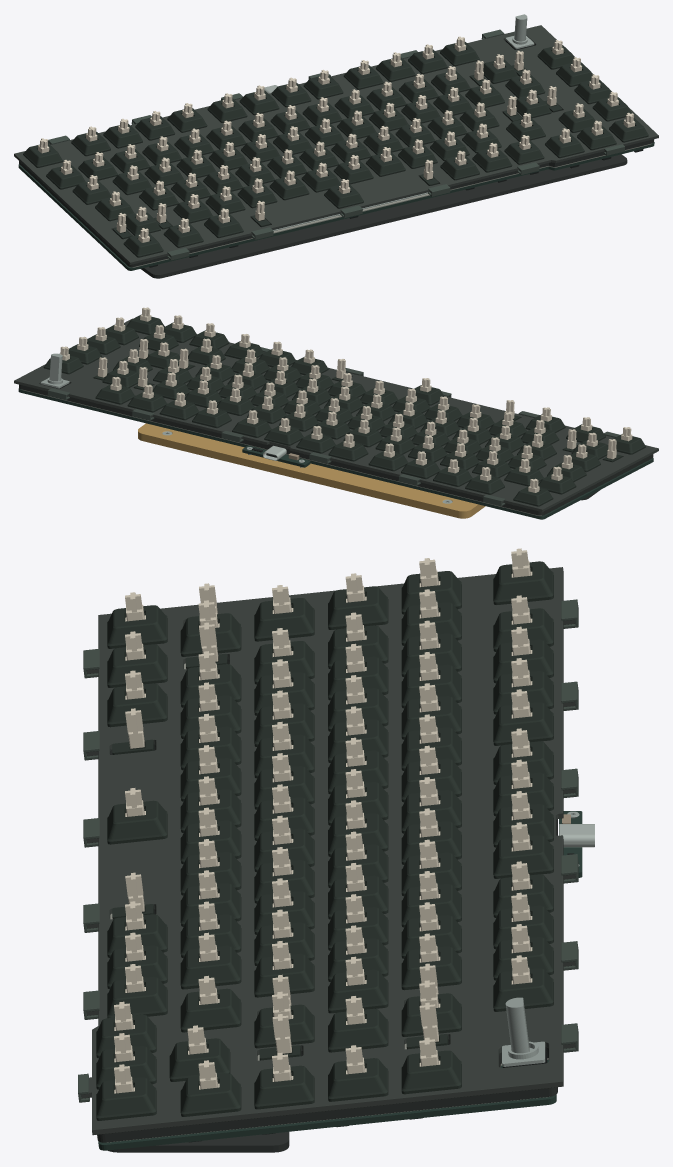
Rendered from kf01_internal_b21.meshopt.glb.
3 renders of one model, top to bottom at view 1: azimuth 30°, elevation 25°; view 2: azimuth 150°, elevation 25°; view 3: azimuth 270°, elevation 25°, orthographic. The views are drawn at different scales.
Parts seen in each view (by area): view 1: KF01_Plate_Main, KF01_Foam_CaseBottom, KF01_PCB_Main, KF01_Foam_PoronPlate, KF01_Foam_IXPE, KF01_MX_F9_Lid, KF01_MX_M_Lid, KF01_MX_Right_Lid, KF01_MX_RAlt_Lid, KF01_MX_Super_Lid, KF01_MX_Down_Lid, KF01_MX_F12_Lid (+74 smaller); view 2: KF01_Plate_Main, KF01_Weight_Main, KF01_Foam_PoronPlate, KF01_PCB_Main, KF01_Foam_IXPE, KF01_MX_F5_Lid, KF01_MX_Esc_Lid, KF01_MX_F4_Lid, KF01_MX_F9_Lid, KF01_MX_F3_Lid, KF01_MX_F10_Lid, KF01_MX_F6_Lid (+75 smaller); view 3: KF01_Plate_Main, KF01_Foam_PoronPlate, KF01_PCB_Main, KF01_Foam_CaseBottom, KF01_MX_End_Lid, KF01_MX_Delete_Lid, KF01_MX_Space_Lid, KF01_MX_PgDn_Lid, KF01_MX_Right_Lid, KF01_MX_PgUp_Lid, KF01_MX_RShift_Lid, KF01_MX_Backslash_Lid (+74 smaller).
Part boxes in pixels (<box>): KF01_Plate_Main: <box>14,25,658,264</box>; KF01_Foam_CaseBottom: <box>141,154,627,278</box>; KF01_PCB_Main: <box>18,142,654,270</box>; KF01_Foam_PoronPlate: <box>19,40,654,267</box>; KF01_Foam_IXPE: <box>132,143,651,267</box>; KF01_MX_F9_Lid: <box>343,65,383,89</box>; KF01_MX_M_Lid: <box>365,152,405,176</box>; KF01_MX_Right_Lid: <box>609,118,648,142</box>; KF01_MX_RAlt_Lid: <box>440,156,479,180</box>; KF01_MX_Super_Lid: <box>163,223,203,247</box>; KF01_MX_Down_Lid: <box>577,126,616,150</box>; KF01_MX_F12_Lid: <box>440,42,479,66</box>; KF01_Plate_Main: <box>14,318,658,512</box>; KF01_Weight_Main: <box>138,423,485,518</box>; KF01_Foam_PoronPlate: <box>19,384,653,515</box>; KF01_PCB_Main: <box>18,388,653,519</box>; KF01_Foam_IXPE: <box>21,389,541,515</box>; KF01_MX_F5_Lid: <box>328,441,368,461</box>; KF01_MX_Esc_Lid: <box>513,486,553,506</box>; KF01_MX_F4_Lid: <box>368,450,408,471</box>; KF01_MX_F9_Lid: <box>192,407,231,428</box>; KF01_MX_F3_Lid: <box>401,458,440,479</box>; KF01_MX_F10_Lid: <box>159,399,199,420</box>; KF01_MX_F6_Lid: <box>296,433,335,453</box>; KF01_Plate_Main: <box>81,567,575,1135</box>; KF01_Foam_PoronPlate: <box>97,659,557,1142</box>; KF01_PCB_Main: <box>98,1060,556,1150</box>; KF01_Foam_CaseBottom: <box>108,1131,289,1152</box>; KF01_MX_End_Lid: <box>180,1073,241,1116</box>; KF01_MX_Delete_Lid: <box>401,1050,461,1094</box>; KF01_MX_Space_Lid: <box>107,800,167,844</box>; KF01_MX_PgDn_Lid: <box>254,1065,314,1109</box>; KF01_MX_Right_Lid: <box>96,1077,156,1120</box>; KF01_MX_PgUp_Lid: <box>328,1058,388,1101</box>; KF01_MX_RShift_Lid: <box>180,988,241,1032</box>; KF01_MX_Backslash_Lid: <box>328,1008,388,1052</box>.
Bounding box in the file's own units: 0.3132 × 0.0428 × 0.133.
